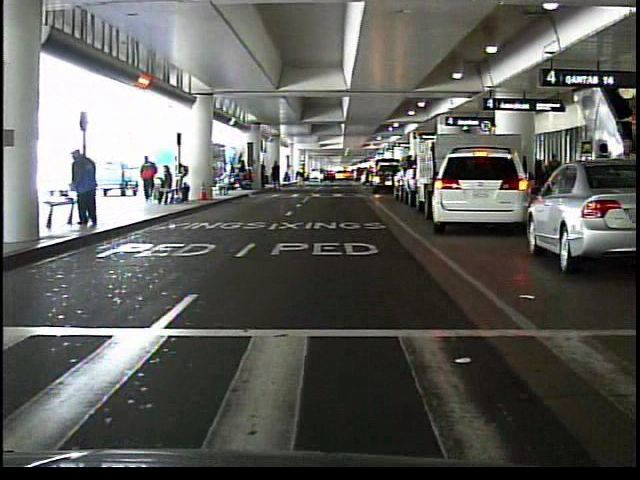person: (69, 147, 104, 231), (215, 168, 233, 203), (293, 163, 307, 192)
